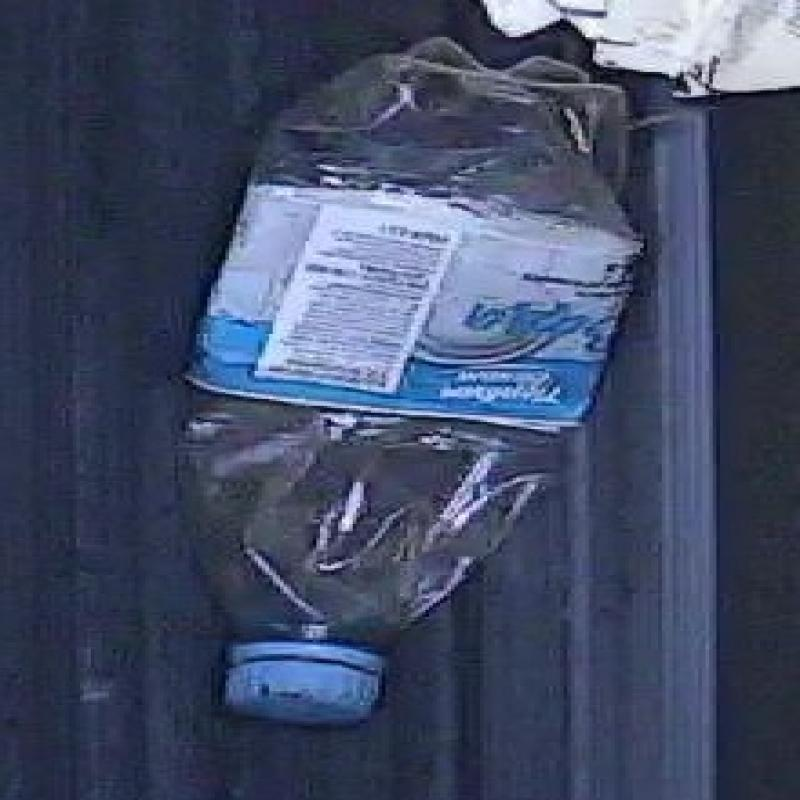botella: (190, 29, 655, 718)
